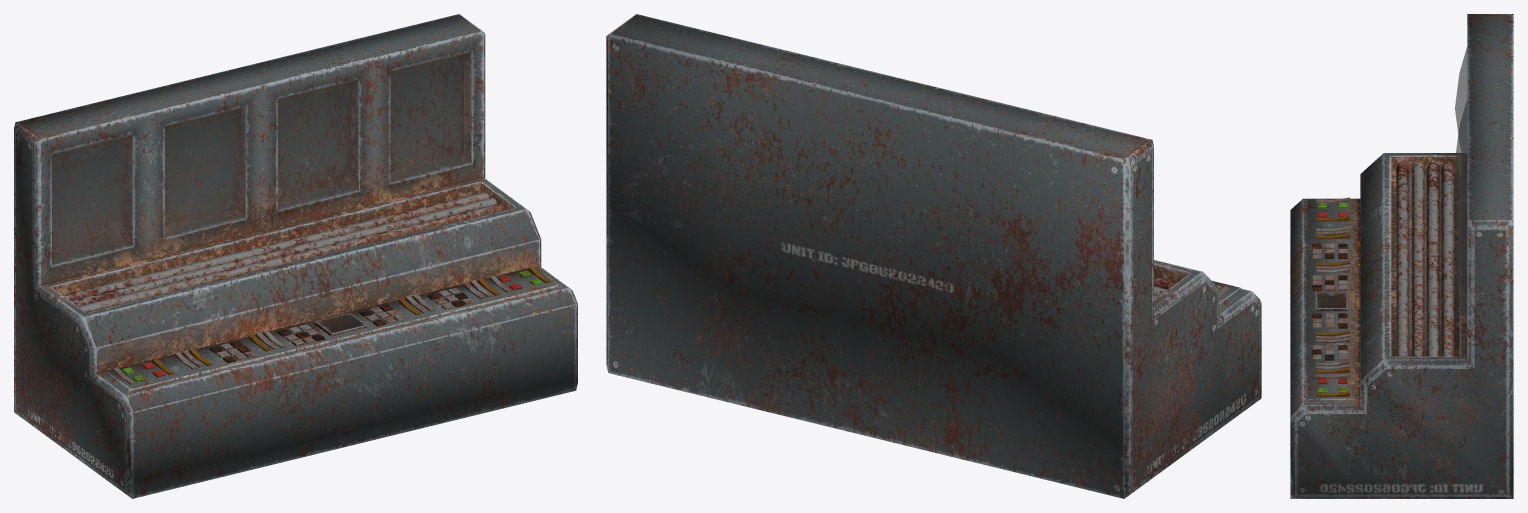
File: bunker_machine.c1b4648938.glb
3 views of the same model, side by side, from view 1: azimuth 30°, elevation 25°; view 2: azimuth 150°, elevation 25°; view 3: azimuth 270°, elevation 25° (orthographic). The views are drawn at different scales.
Parts seen in each view (by area): view 1: bunker_machine_2, bunker_machine_3, bunker_machine_1, bunker_machine_0; view 2: bunker_machine_2; view 3: bunker_machine_2, bunker_machine_1, bunker_machine_0, bunker_machine_3.
Boxes of the visible parts, left/top/right/bottom form: bunker_machine_2: left=14, top=14, right=577, bottom=498; bunker_machine_3: left=52, top=51, right=471, bottom=265; bunker_machine_1: left=62, top=192, right=508, bottom=312; bunker_machine_0: left=113, top=266, right=550, bottom=384; bunker_machine_2: left=606, top=14, right=1261, bottom=498; bunker_machine_2: left=1290, top=14, right=1513, bottom=498; bunker_machine_1: left=1396, top=162, right=1453, bottom=356; bunker_machine_0: left=1312, top=197, right=1349, bottom=396; bunker_machine_3: left=1455, top=47, right=1467, bottom=326.
Size of the model in its own units: 3.6 by 2.22 by 1.61.
3 materials, 2 textured.
